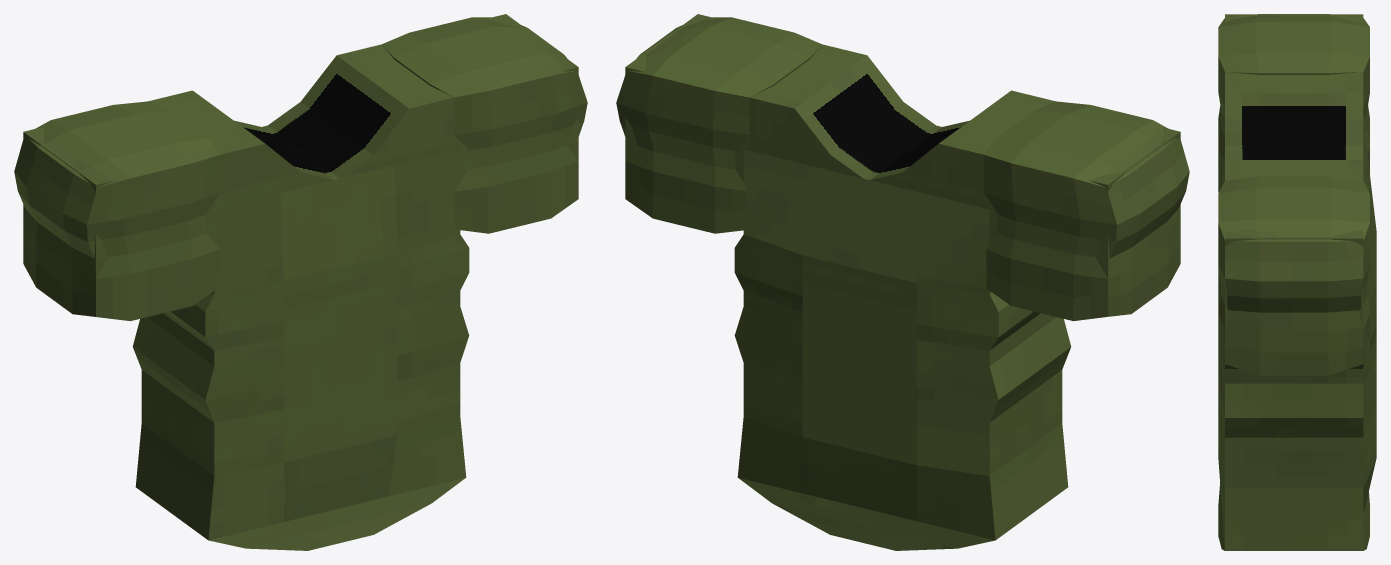
3 views of the same model, side by side, from view 1: azimuth 30°, elevation 25°; view 2: azimuth 150°, elevation 25°; view 3: azimuth 270°, elevation 25° (orthographic). The views are drawn at different scales.
Visible parts, largest first — view 1: body, left_arm, right_arm, body_flat, left_arm_flat, right_arm_flat; view 2: body, left_arm, right_arm, body_flat, left_arm_flat, right_arm_flat; view 3: body, right_arm, left_arm, body_flat, right_arm_flat, left_arm_flat.
Boxes of the visible parts, x1=… form: body: x1=132, y1=44, x2=469, y2=550; left_arm: x1=14, y1=101, x2=220, y2=321; right_arm: x1=382, y1=17, x2=587, y2=233; body_flat: x1=142, y1=102, x2=366, y2=453; left_arm_flat: x1=23, y1=127, x2=220, y2=278; right_arm_flat: x1=454, y1=14, x2=578, y2=188; body: x1=734, y1=44, x2=1071, y2=550; left_arm: x1=983, y1=101, x2=1189, y2=321; right_arm: x1=616, y1=17, x2=821, y2=233; body_flat: x1=832, y1=102, x2=994, y2=363; left_arm_flat: x1=983, y1=127, x2=1180, y2=278; right_arm_flat: x1=625, y1=14, x2=749, y2=181; body: x1=1218, y1=72, x2=1376, y2=550; right_arm: x1=1218, y1=176, x2=1369, y2=375; left_arm: x1=1218, y1=14, x2=1369, y2=192; body_flat: x1=1226, y1=145, x2=1361, y2=488; right_arm_flat: x1=1225, y1=229, x2=1363, y2=327; left_arm_flat: x1=1225, y1=14, x2=1363, y2=22.
Size of the model in its own units: 1.07 by 0.8375 by 0.3.
Materials: 1 (1 with a texture image).
